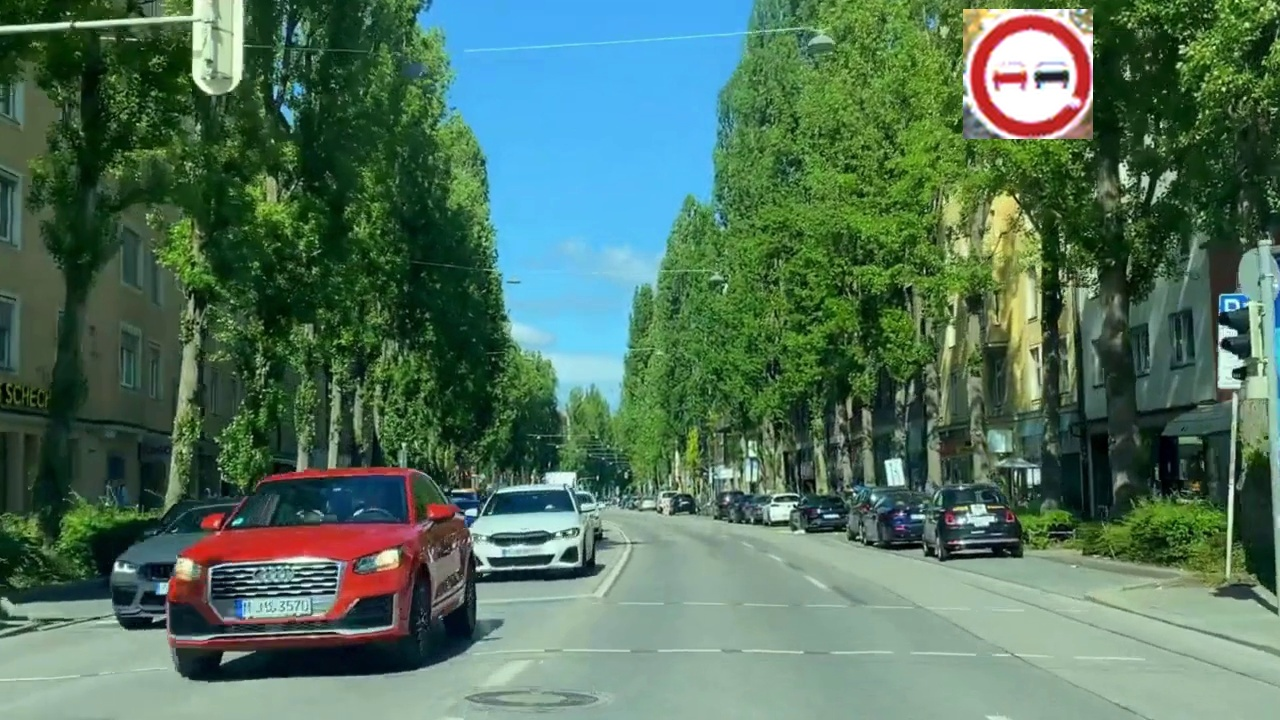No passing: (963, 9, 1093, 139)
